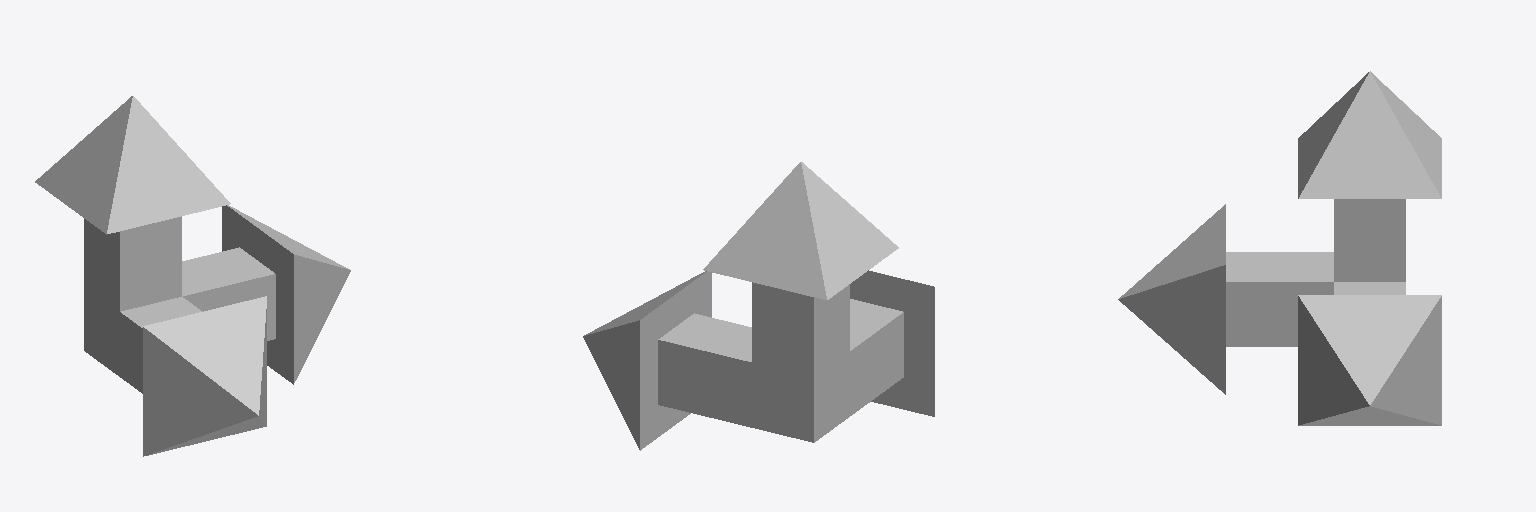
Rendered from FreeTranslator.obj.
3 renders of one model, left to right at view 1: azimuth 30°, elevation 25°; view 2: azimuth 150°, elevation 25°; view 3: azimuth 270°, elevation 25°, orthographic.
Visible parts, largest first — view 1: Cube_Cube.001; view 2: Cube_Cube.001; view 3: Cube_Cube.001.
Boxes of the visible parts, <box> form: Cube_Cube.001: <box>35,96,350,456</box>; Cube_Cube.001: <box>583,162,934,450</box>; Cube_Cube.001: <box>1118,71,1441,425</box>.
Size of the model in its own units: 0.9 by 0.9 by 0.9.